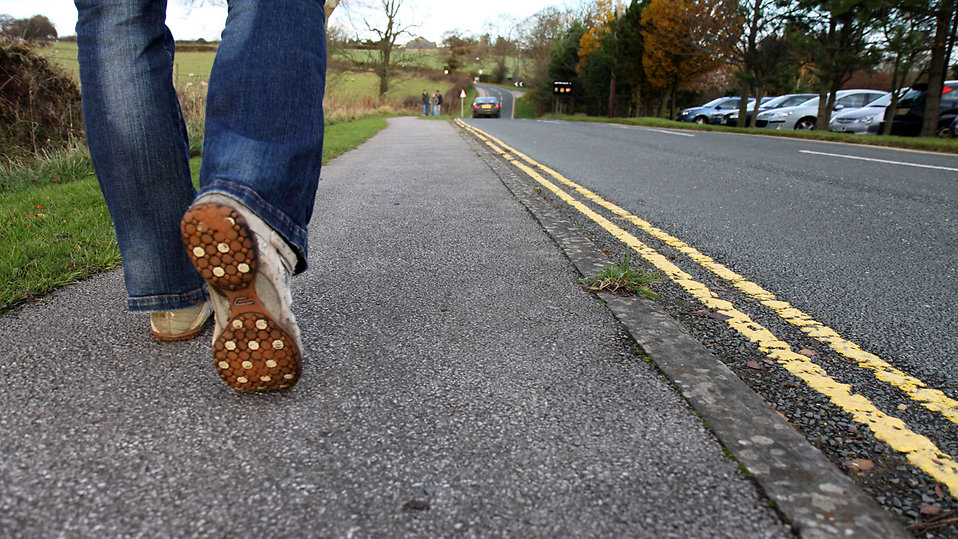feet: (83, 149, 353, 410)
